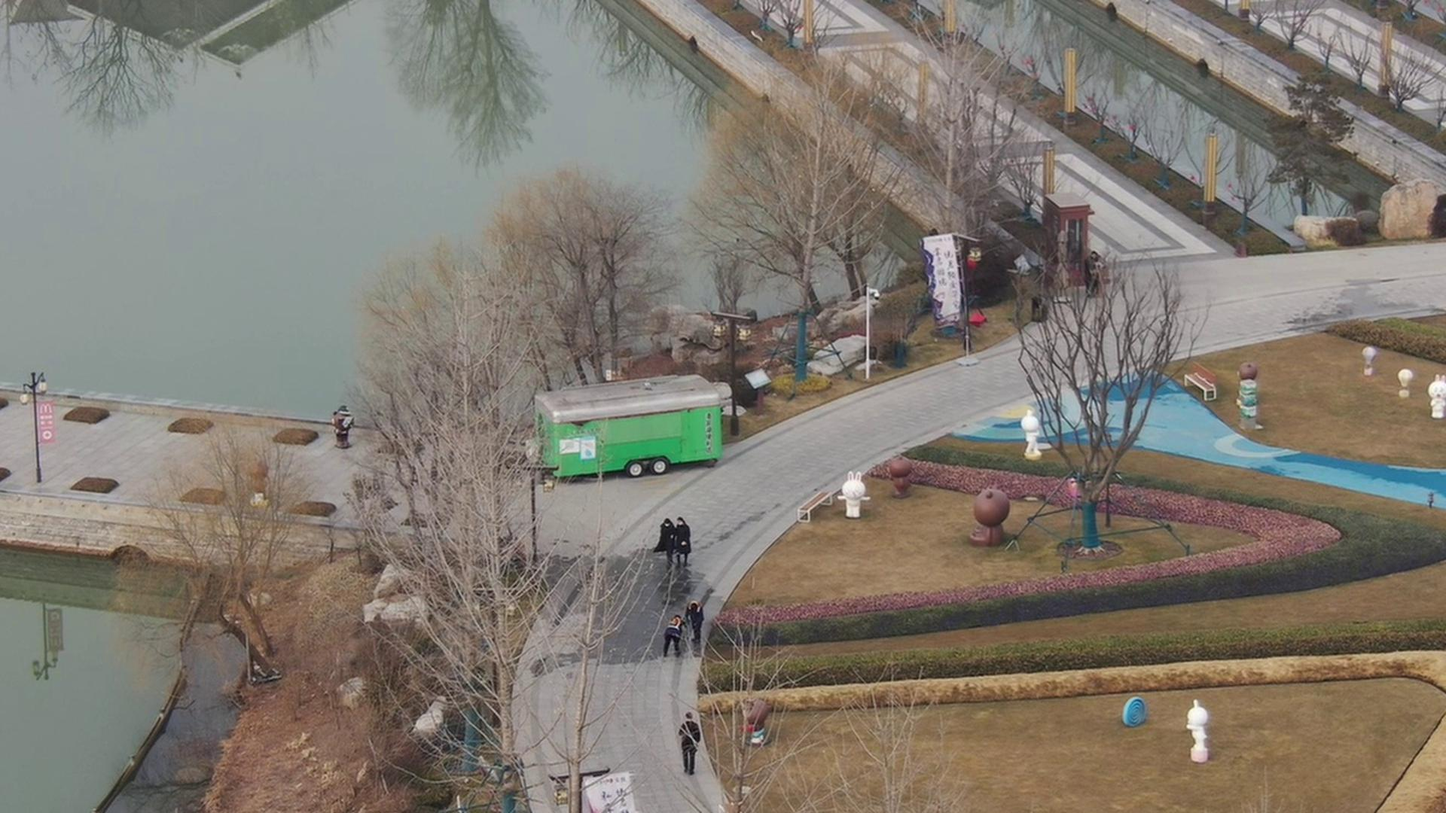human: (672, 712, 704, 781), (681, 597, 709, 650), (672, 510, 694, 574), (658, 617, 684, 665), (652, 520, 675, 574)
